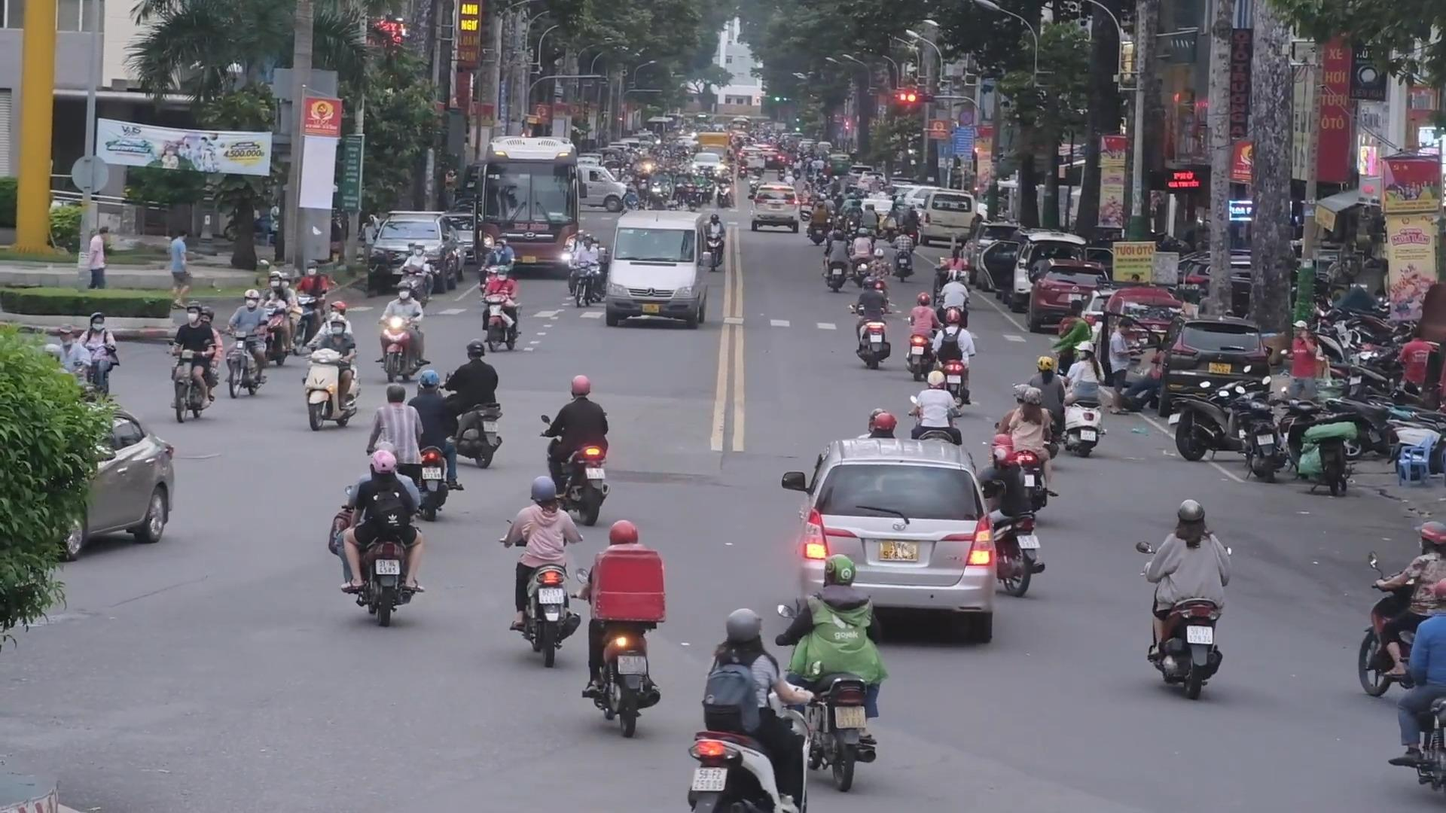driver: (774, 554, 890, 794), (687, 607, 819, 813), (570, 519, 666, 740), (1135, 499, 1234, 700), (327, 441, 426, 627), (498, 476, 583, 669), (1359, 521, 1446, 698), (1387, 576, 1446, 797), (975, 434, 1045, 598), (539, 375, 611, 526), (408, 369, 464, 521), (439, 339, 502, 468), (302, 315, 363, 431), (166, 301, 224, 423), (375, 280, 431, 383), (223, 289, 269, 399), (1064, 341, 1105, 458), (846, 275, 894, 370), (931, 309, 976, 409), (908, 371, 962, 445), (481, 265, 523, 353), (905, 292, 944, 380), (822, 229, 853, 292), (890, 226, 916, 283), (704, 213, 725, 273)
helmet: (726, 607, 763, 651), (822, 553, 856, 589), (1414, 521, 1446, 555), (370, 449, 398, 480), (1178, 499, 1205, 530), (609, 519, 638, 546), (530, 476, 556, 504), (873, 413, 897, 435), (992, 445, 1013, 470), (571, 375, 591, 401), (419, 370, 440, 392), (466, 340, 485, 361), (1024, 387, 1042, 407), (330, 314, 346, 336), (187, 301, 202, 324), (927, 371, 945, 389), (244, 289, 260, 309), (396, 280, 412, 300), (1037, 356, 1054, 374), (946, 309, 960, 326), (916, 292, 931, 307)
no-helmet: (1074, 341, 1094, 361), (387, 384, 405, 403)
